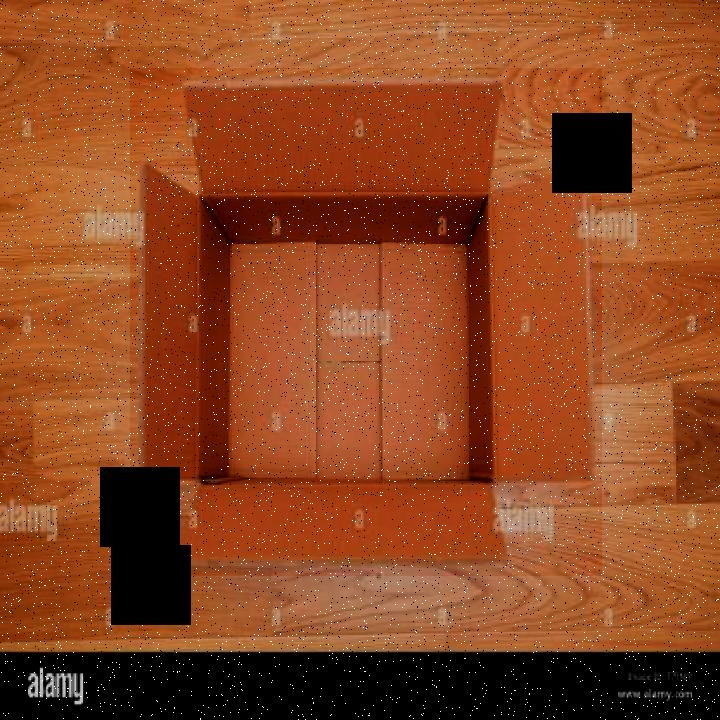box: (130, 68, 602, 576)
